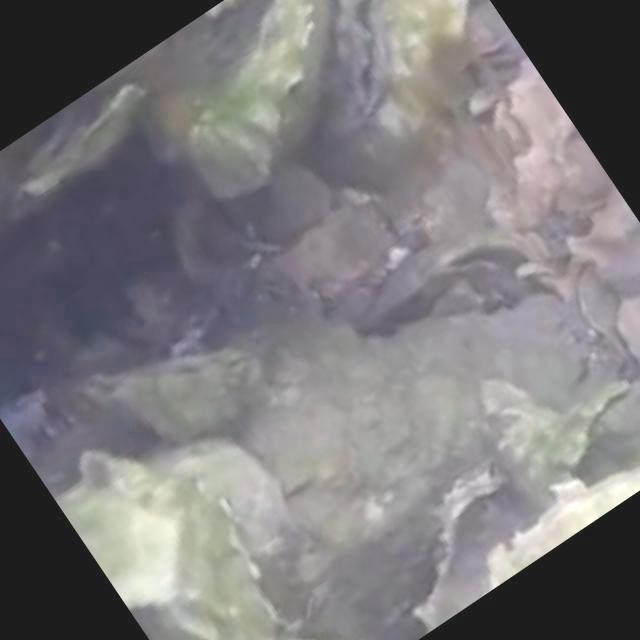Oyster-Closed: (51, 448, 286, 639), (180, 0, 330, 189), (77, 345, 272, 449)
Oyster-Open: (331, 0, 395, 129)
